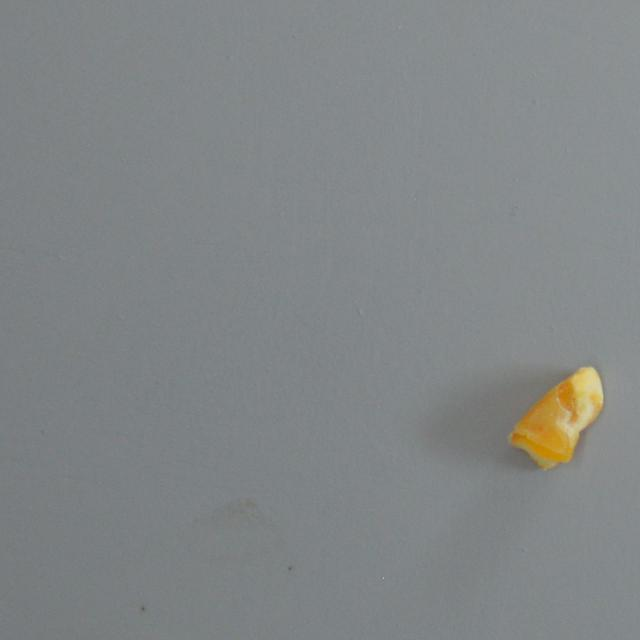pelicula: (506, 364, 604, 471)
